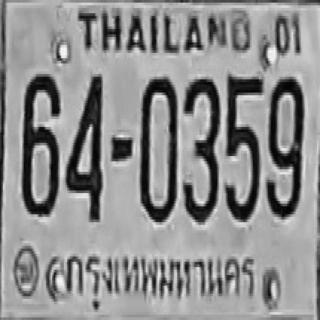N00: (139, 74, 176, 220)
N03: (182, 75, 220, 221)
N04: (65, 72, 102, 220)
N05: (224, 73, 263, 221)
N06: (21, 71, 60, 214)
N09: (266, 74, 304, 217)
P04: (60, 238, 260, 312)
